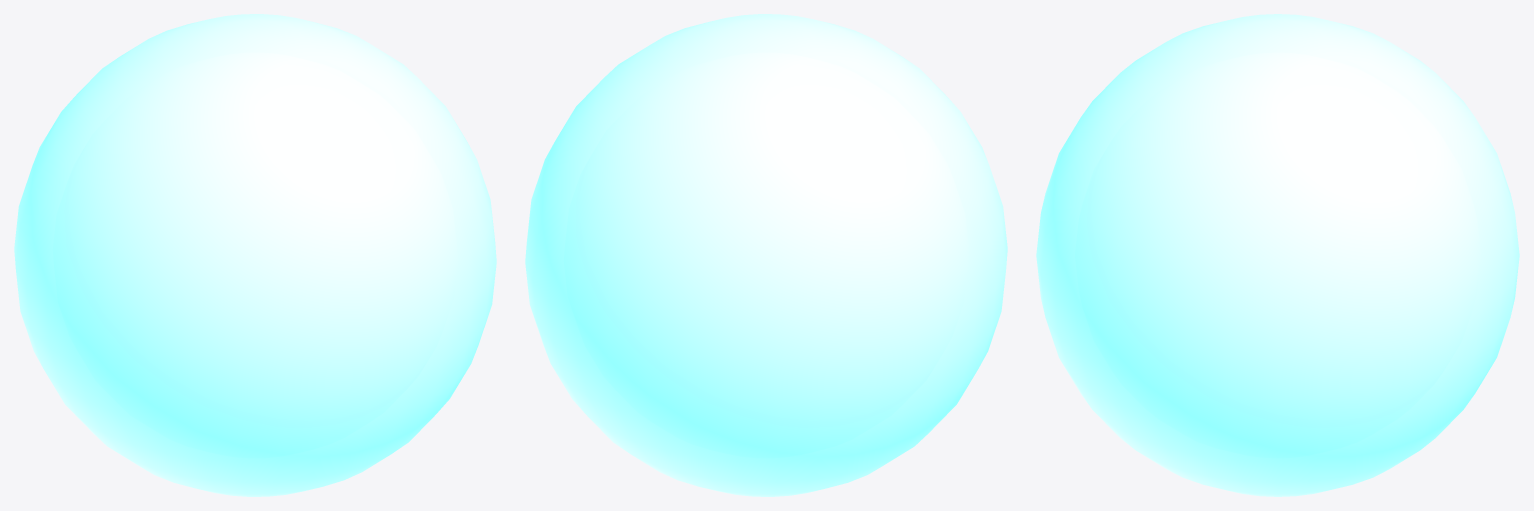
Rendered from orb-ice.glb.
The picture shows the model from 3 angles, left to right: view 1: azimuth 30°, elevation 25°; view 2: azimuth 150°, elevation 25°; view 3: azimuth 270°, elevation 25°; orthographic projection.
Parts seen in each view (by area): view 1: orb-ice; view 2: orb-ice; view 3: orb-ice.
Part boxes in pixels (bbox=[...]): orb-ice: bbox=[14, 14, 496, 496]; orb-ice: bbox=[525, 14, 1007, 496]; orb-ice: bbox=[1036, 14, 1519, 496].
Bounding box in the file's own units: 1.33 × 1.33 × 1.33.
